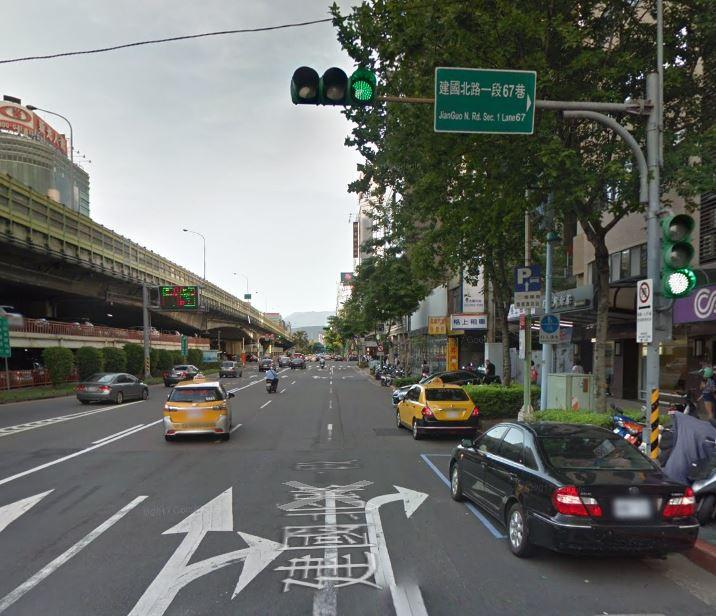green_traffic_light: (286, 64, 378, 106)
